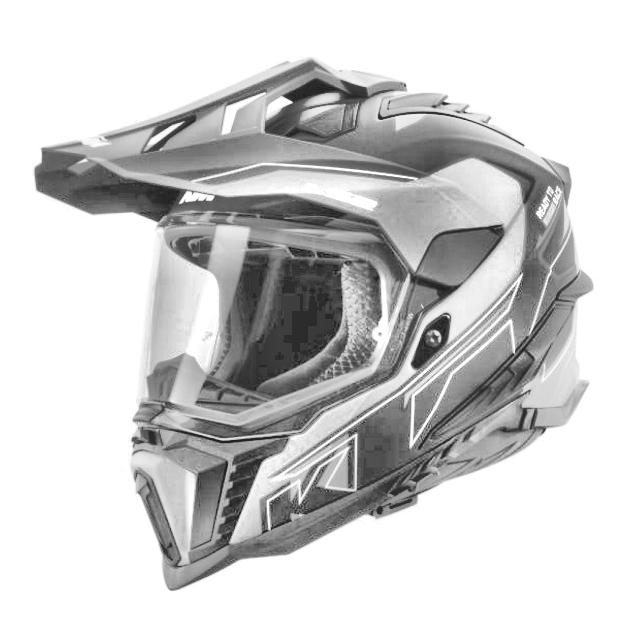Helmet: (29, 43, 597, 598)
